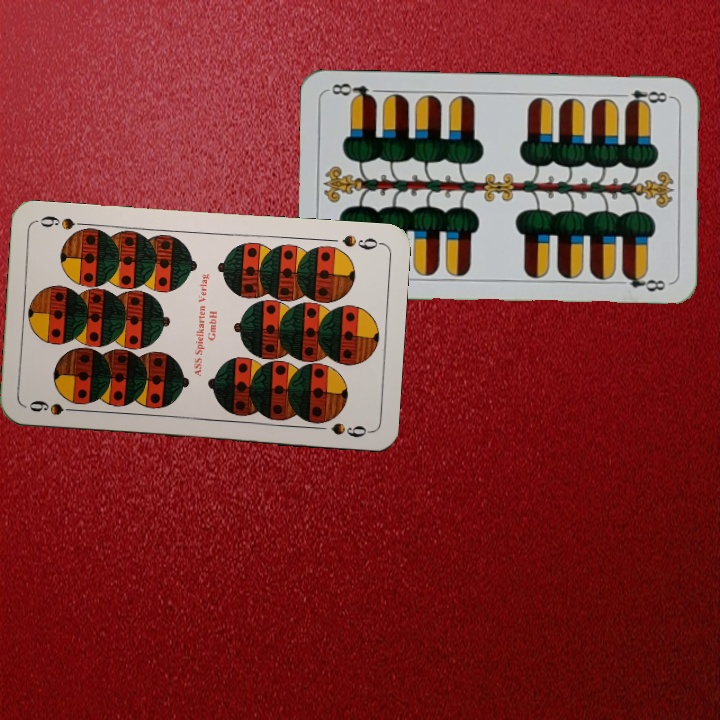E8: (615, 86, 674, 109)
S9: (25, 396, 83, 418), (338, 231, 384, 253)
